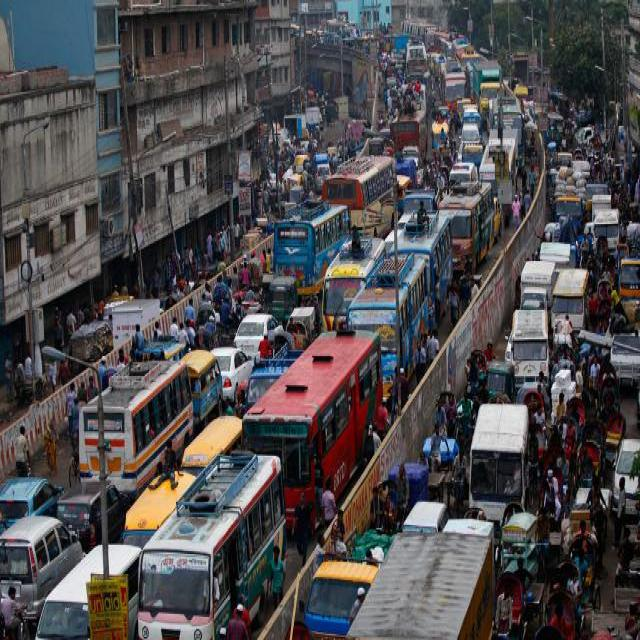Ad-signs: (85, 572, 128, 638)
Bus: (241, 325, 383, 534), (136, 448, 287, 639)
